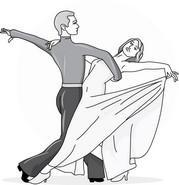person: (86, 30, 174, 183), (26, 5, 94, 180)
